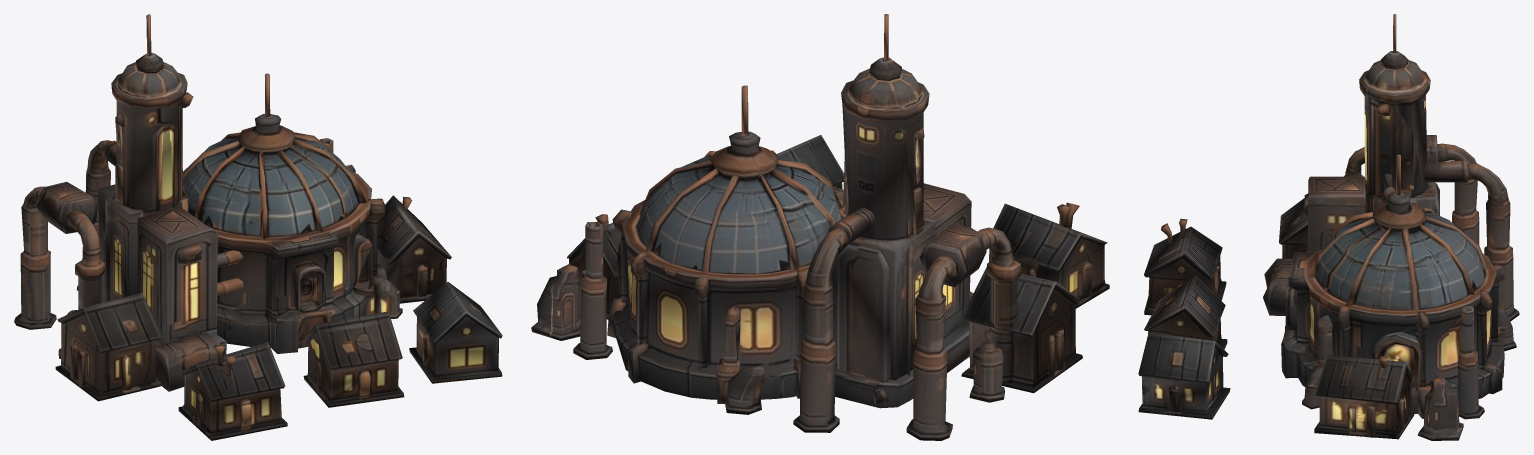
Rendered from city.glb.
3 views of the same model, side by side, from view 1: azimuth 30°, elevation 25°; view 2: azimuth 150°, elevation 25°; view 3: azimuth 270°, elevation 25° (orthographic). The views are drawn at different scales.
Size of the model in its own units: 1 by 0.7895 by 0.9056.
Materials: 1 (1 with a texture image).
